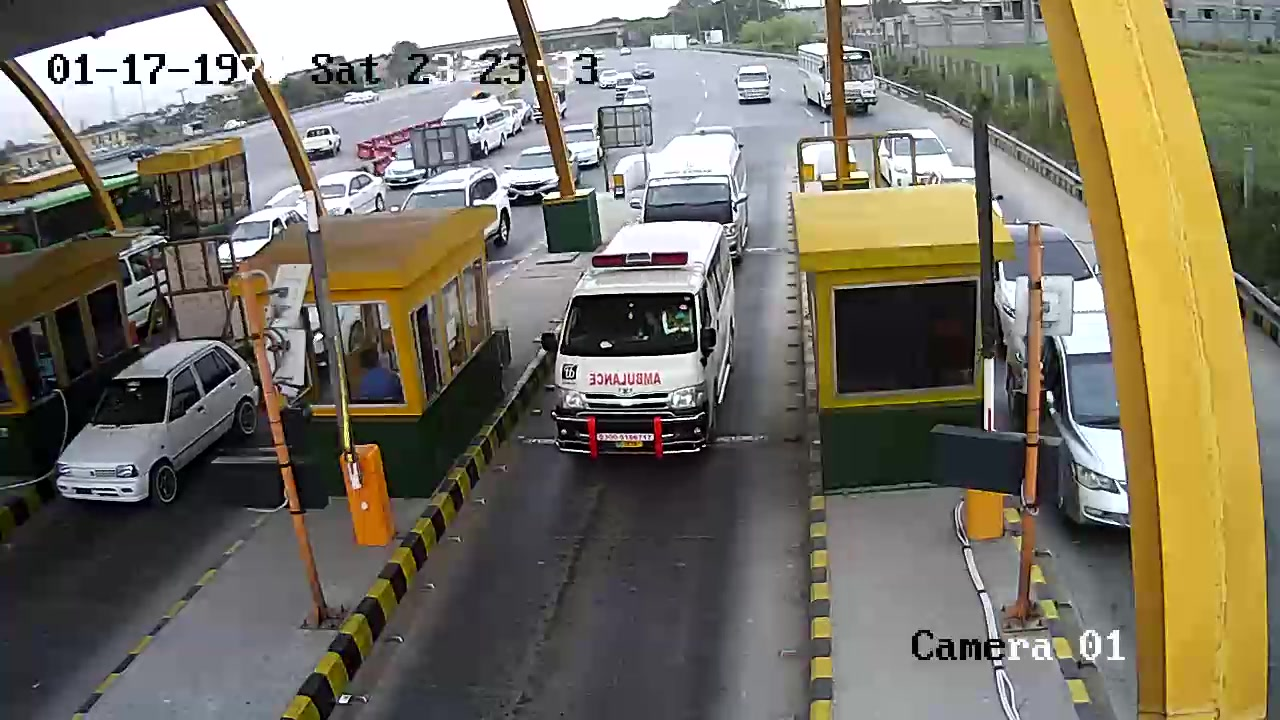F3: (552, 215, 744, 463)
